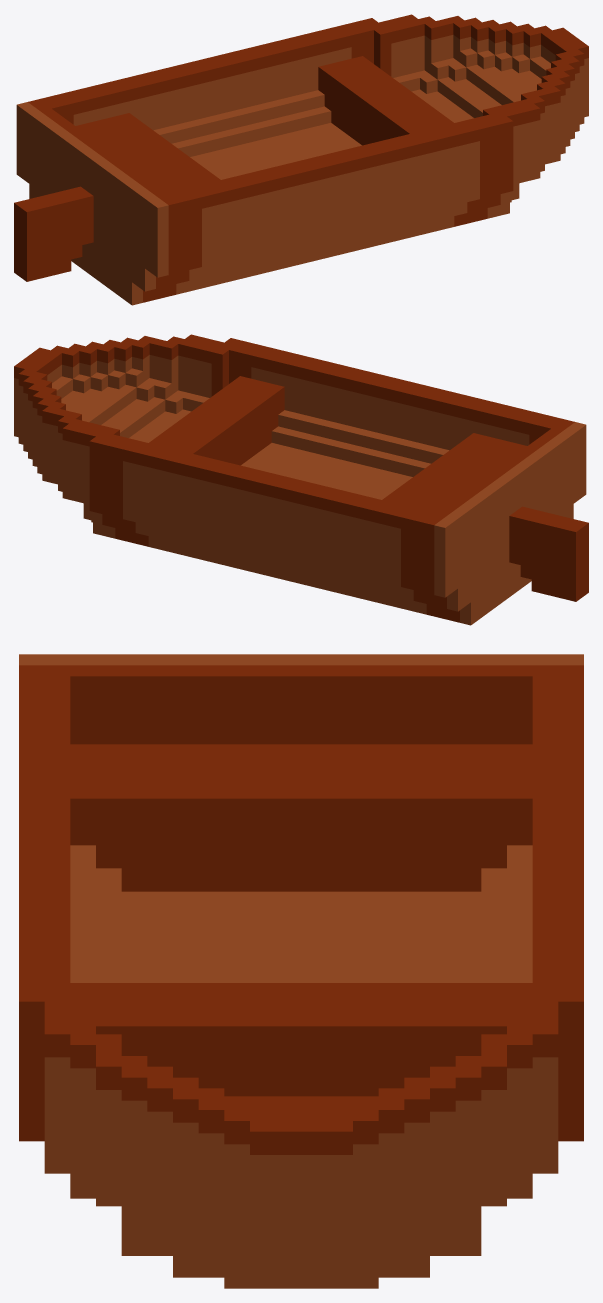
The model's file is boat.obj.
3 renders of one model, top to bottom at view 1: azimuth 30°, elevation 25°; view 2: azimuth 150°, elevation 25°; view 3: azimuth 270°, elevation 25°, orthographic. The views are drawn at different scales.
Parts seen in each view (by area): view 1: boat; view 2: boat; view 3: boat.
Part boxes in pixels (x1,y1,x2,y2): boat: [14, 14, 588, 305]; boat: [14, 334, 588, 625]; boat: [19, 654, 583, 1288].
Size of the model in its own units: 50 by 10 by 22.
Materials: 1 (1 with a texture image).
